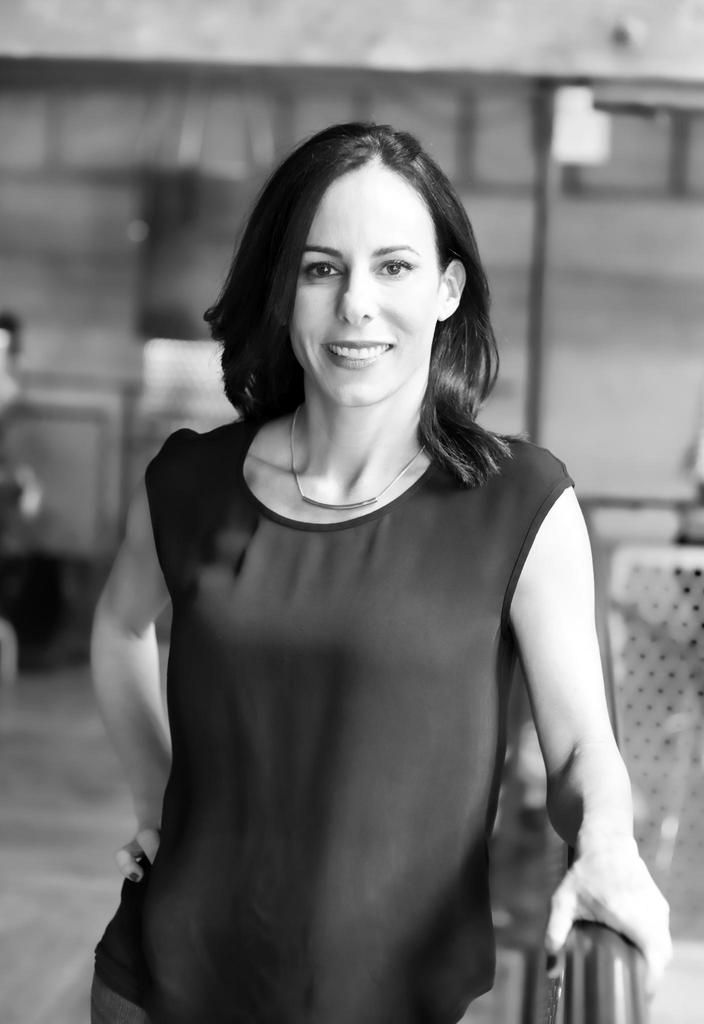Human_hand: (532, 760, 678, 1011), (111, 785, 168, 886)
